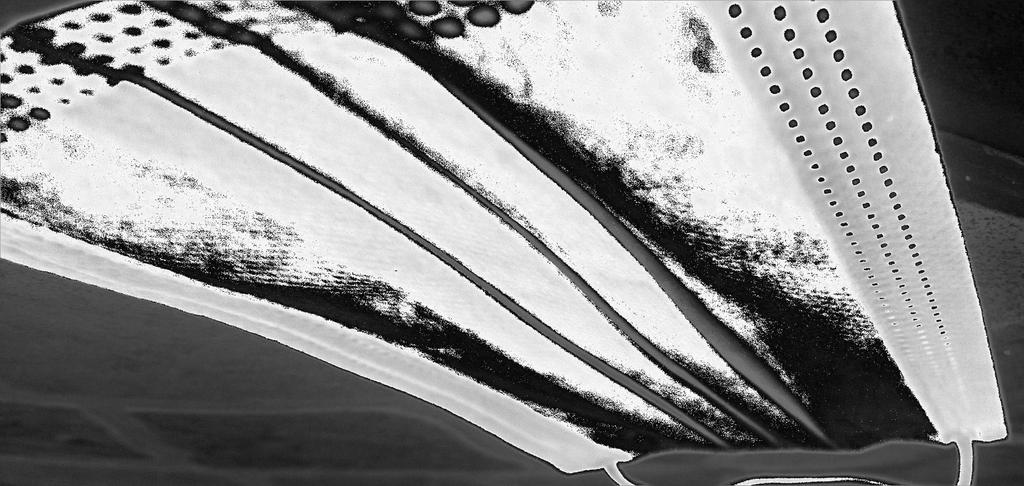High GSM: (2, 10, 820, 306)
